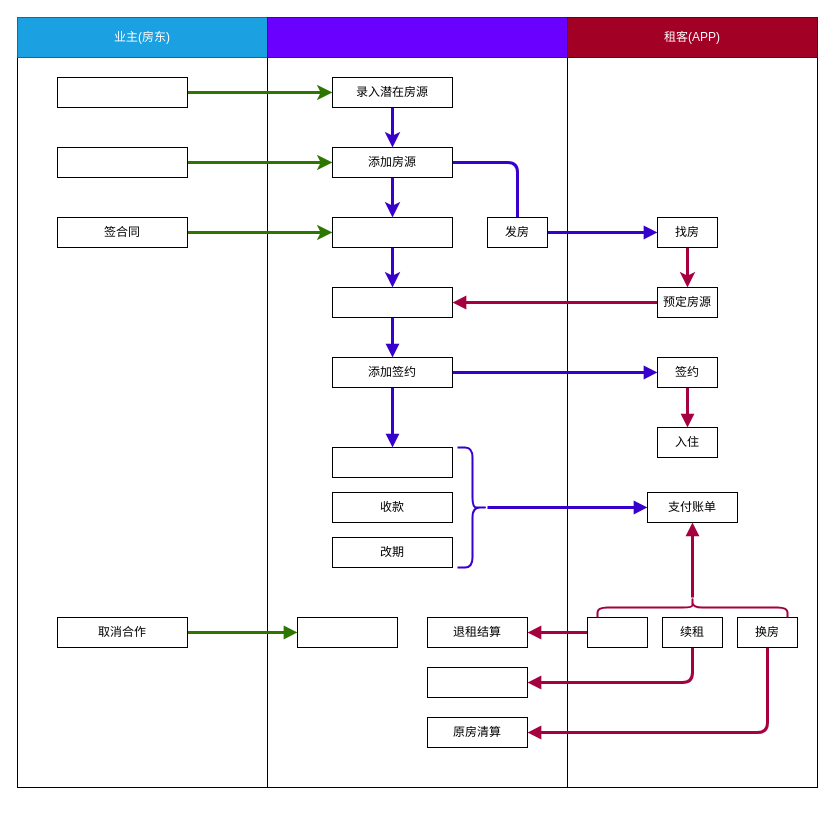
Image size: 835x814. Some labels were removed from this diagram. Here are the shapes that lost their labels. From the top down, the centre of each, then its label:
the point at 417,37: 管家(系统)
the point at 122,92: 提供个人信息
the point at 122,162: 提供具体房源信息
the point at 392,232: 添加业主合同
the point at 392,302: 添加预定
the point at 392,462: 添加账单
the point at 347,632: 关闭房源
the point at 617,632: 退租
the point at 477,682: 续租合同
